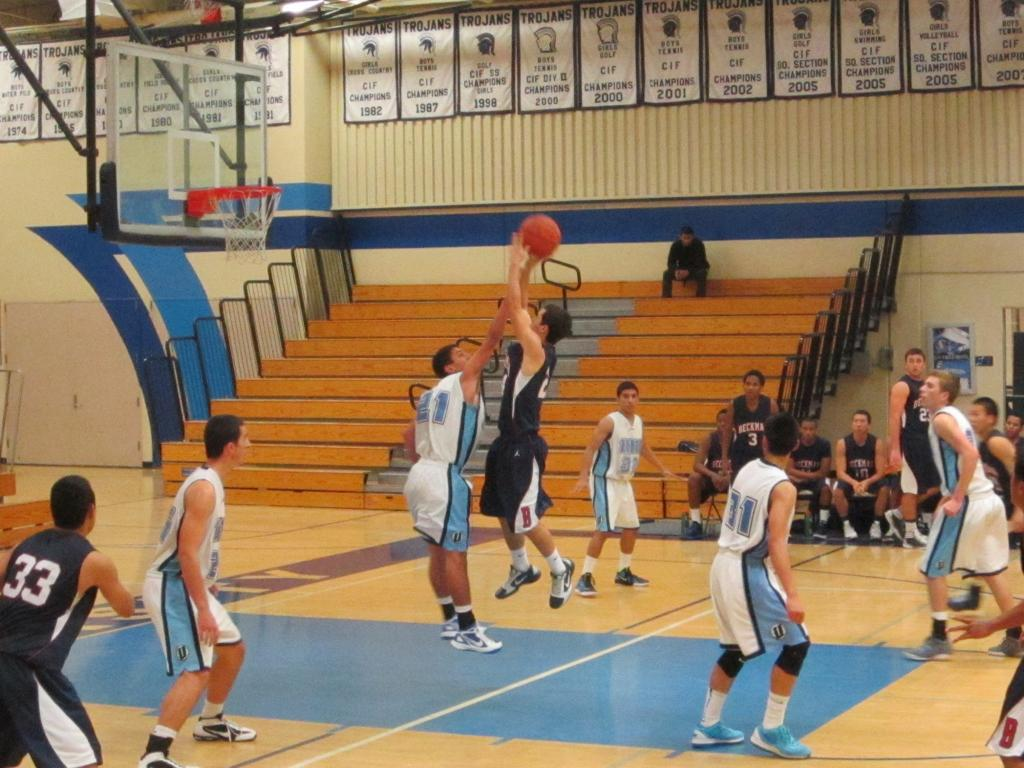face: (228, 429, 251, 465), (919, 377, 943, 409), (969, 406, 991, 433), (453, 350, 475, 373), (530, 312, 548, 337), (908, 355, 924, 377), (622, 392, 638, 414), (1006, 417, 1020, 437), (851, 417, 867, 433), (745, 381, 759, 399), (801, 426, 815, 442), (718, 417, 729, 431), (682, 235, 693, 246)
